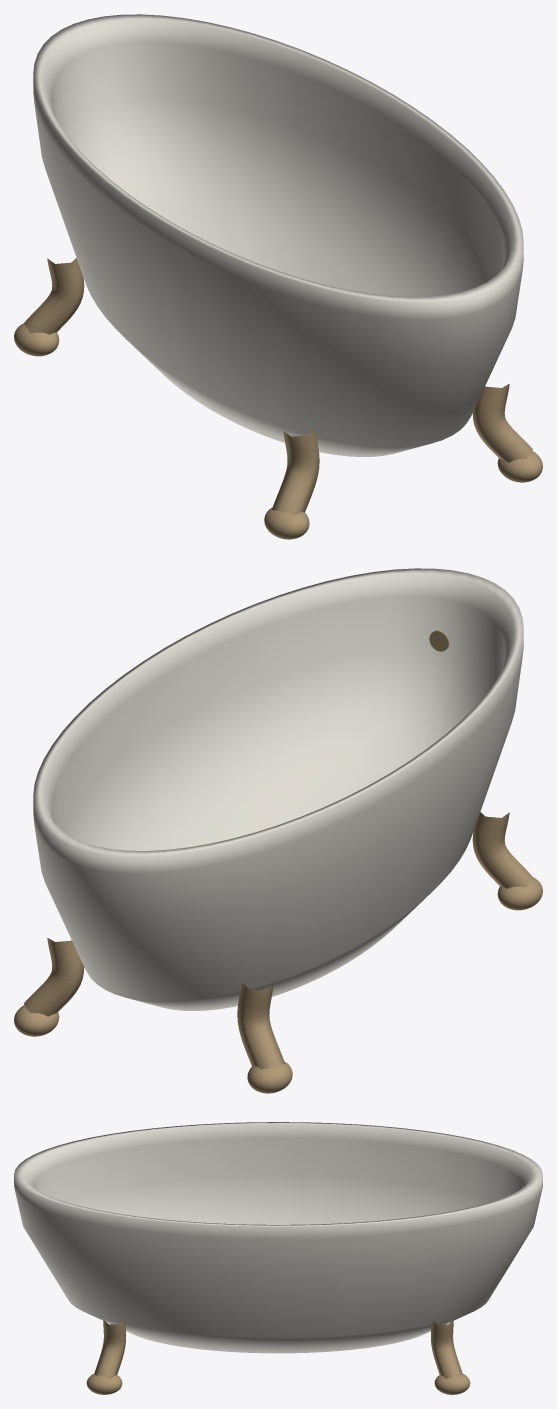
File: bath-clawfoot-tub.glb
3 views of the same model, one above another, from view 1: azimuth 30°, elevation 25°; view 2: azimuth 150°, elevation 25°; view 3: azimuth 270°, elevation 25° (orthographic). The views are drawn at different scales.
Visible parts, largest first — view 1: ceramic_surfaces, bronze_surfaces; view 2: ceramic_surfaces, bronze_surfaces; view 3: ceramic_surfaces, bronze_surfaces.
Part boxes in pixels (box(x1,y1,x2,y2)): ceramic_surfaces: box(33, 14, 523, 456); bronze_surfaces: box(14, 258, 542, 539); ceramic_surfaces: box(33, 568, 523, 1010); bronze_surfaces: box(14, 630, 542, 1093); ceramic_surfaces: box(14, 1122, 542, 1353); bronze_surfaces: box(86, 1319, 470, 1394).
Bounding box in the file's own units: 0.78 × 0.6195 × 1.66.
